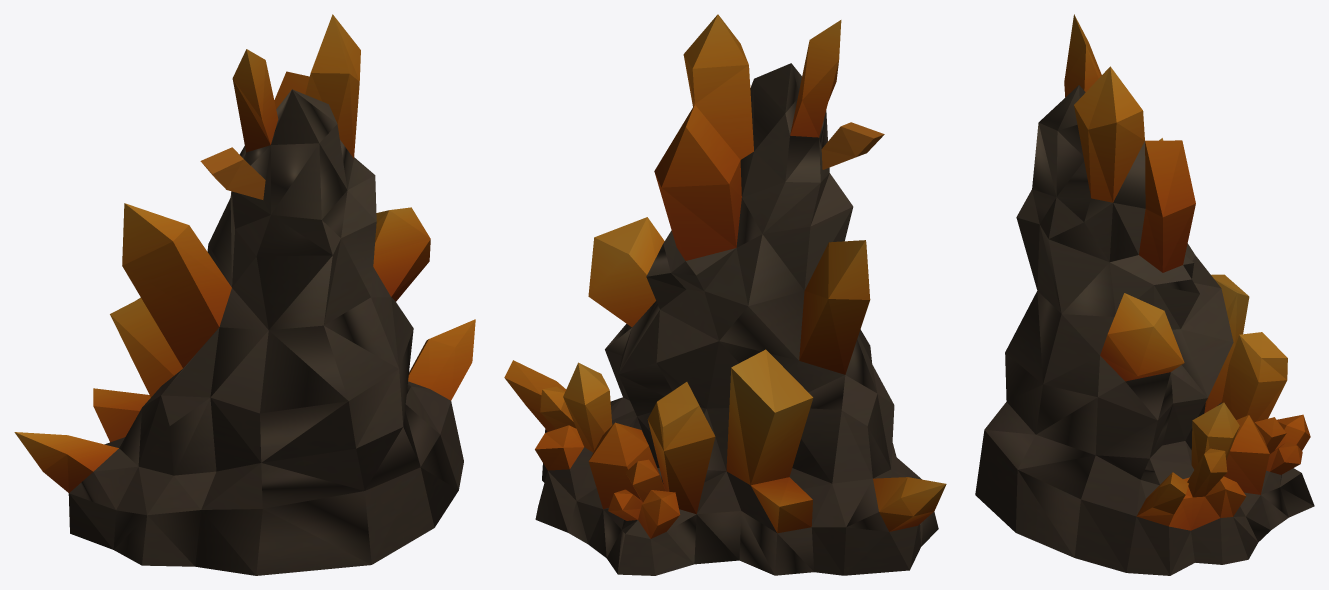
File: ZLP_Crystalk_D_7.FBX
3 renders of one model, left to right at view 1: azimuth 30°, elevation 25°; view 2: azimuth 150°, elevation 25°; view 3: azimuth 270°, elevation 25°, orthographic. The views are drawn at different scales.
Parts seen in each view (by area): view 1: ZLP_Crystalk_D_7; view 2: ZLP_Crystalk_D_7; view 3: ZLP_Crystalk_D_7.
Boxes of the visible parts, <box> form: ZLP_Crystalk_D_7: <box>14,14,475,575</box>; ZLP_Crystalk_D_7: <box>504,14,946,575</box>; ZLP_Crystalk_D_7: <box>975,14,1314,575</box>.
Size of the model in its own units: 192 by 200 by 137.
